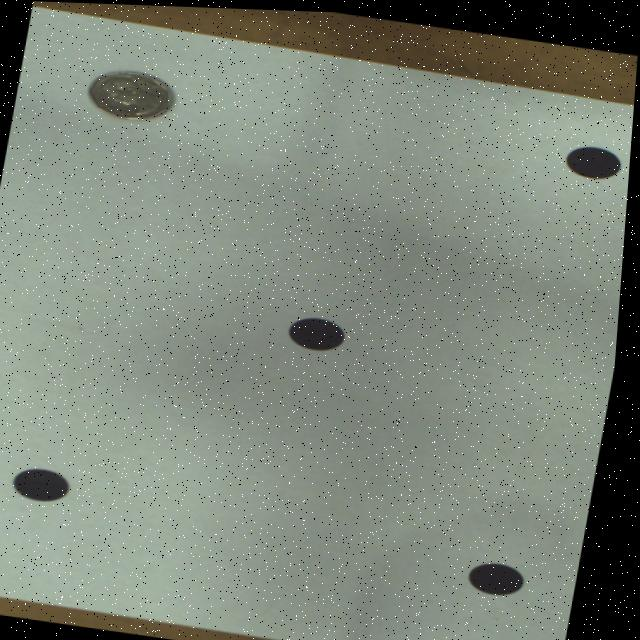head5bath: (90, 70, 175, 118)
space: (294, 314, 349, 348), (475, 558, 531, 591), (567, 141, 622, 174), (21, 468, 75, 500)
